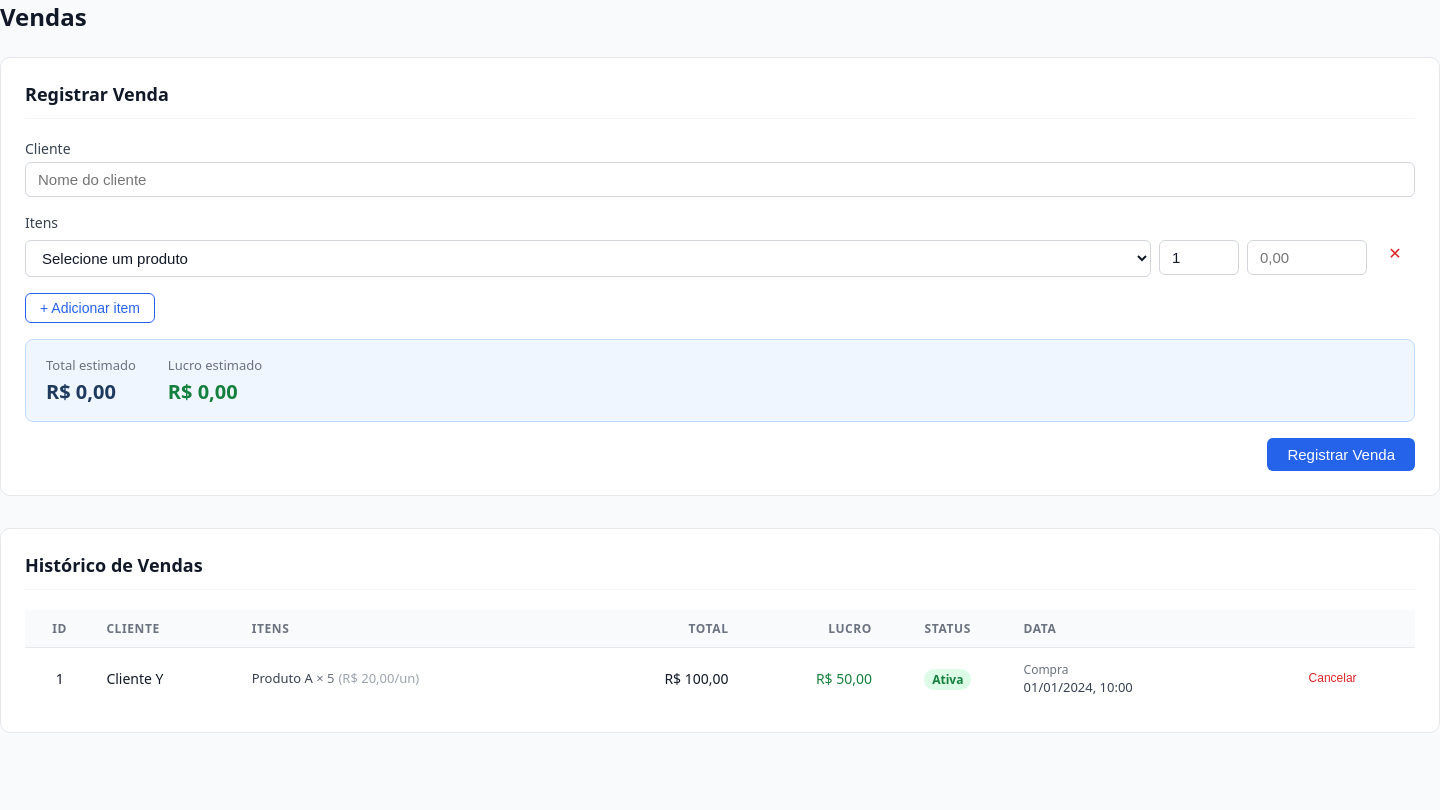
Test: VendasView › abre modal de confirmação ao clicar em Cancelar
Click the button with class "btn-perigo" showing "Cancelar" at point(1333, 678), box [1299,667,1367,689]
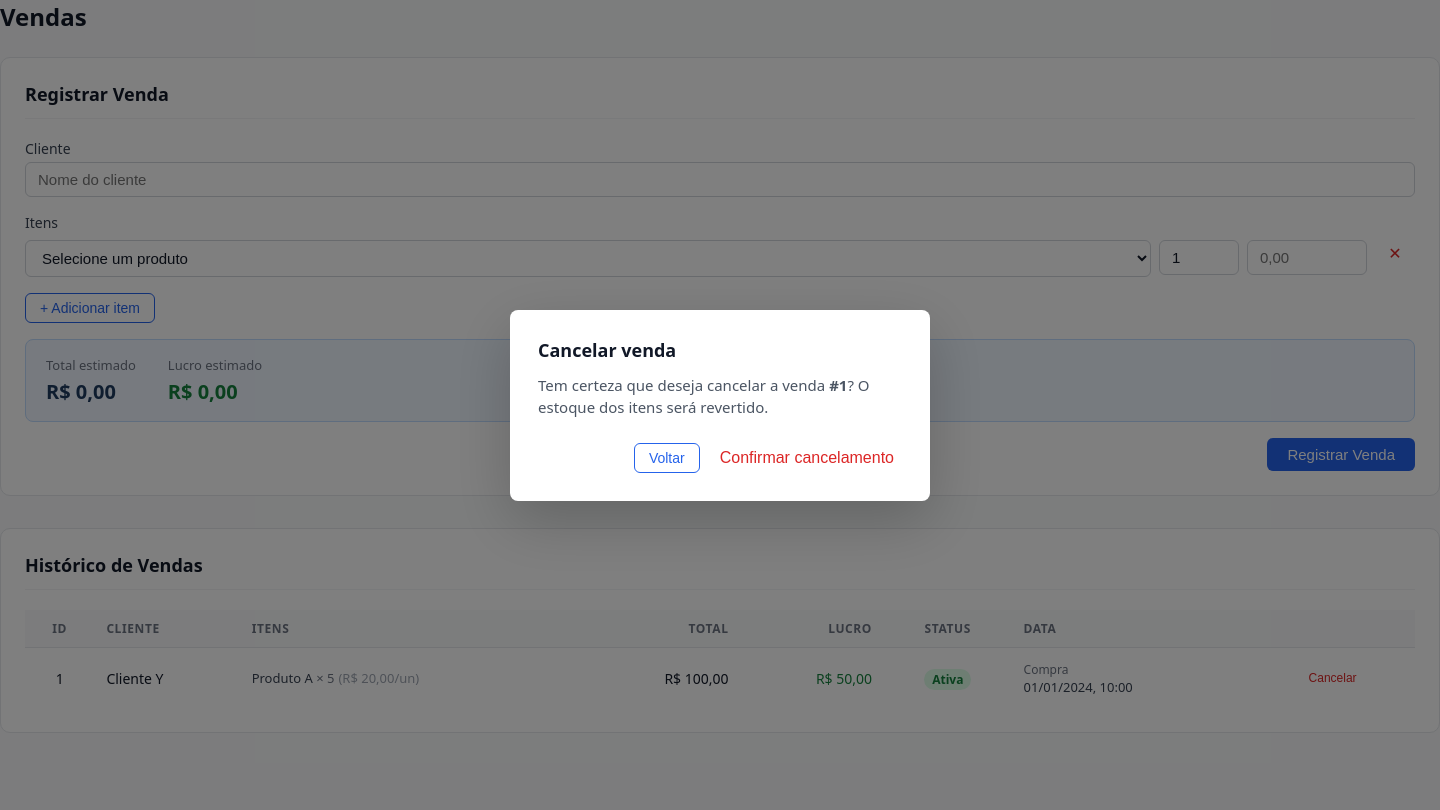
expect the text "Confirmar cancelamento" is shown: met, box [712,442,902,472]
